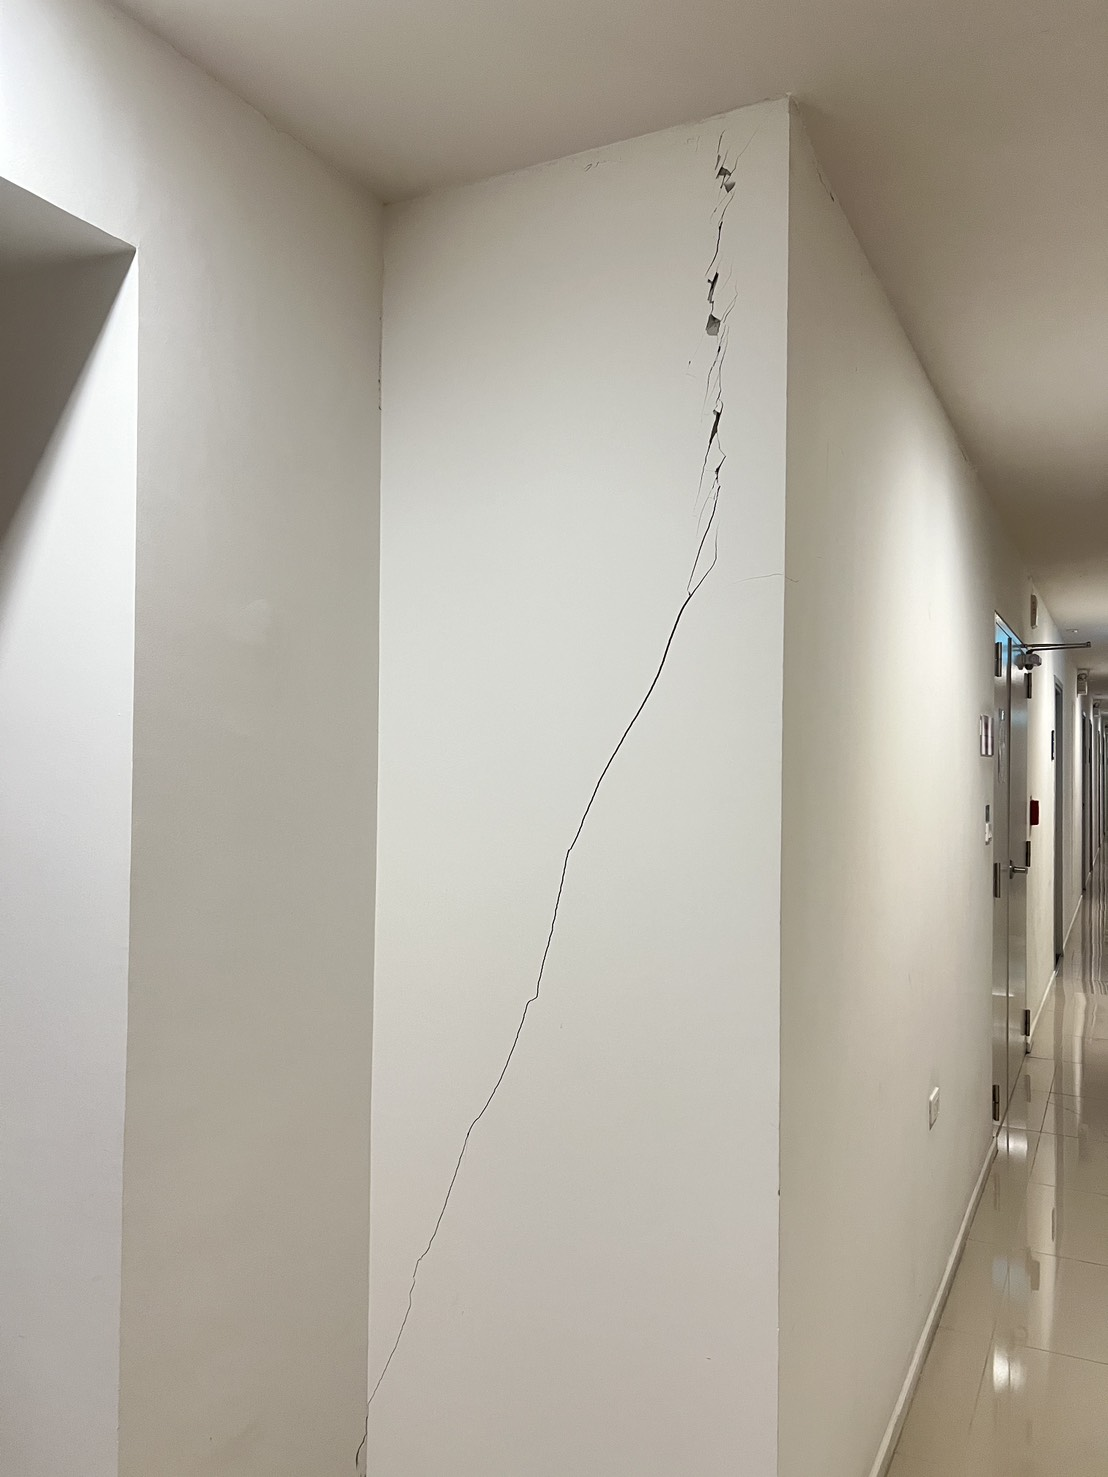Low: (338, 104, 768, 1462)
